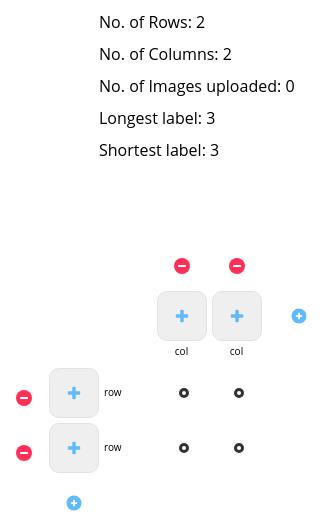
Test case: RadioMatrix › remove column
Click the button with test id "delete-col1". click: (182, 266)
box: x1=156 y1=241 x2=206 y2=291
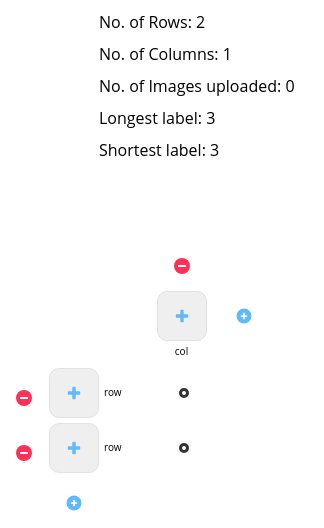
Result: the text "No. of Columns: 1" is shown at x1=99 y1=43 x2=232 y2=65
